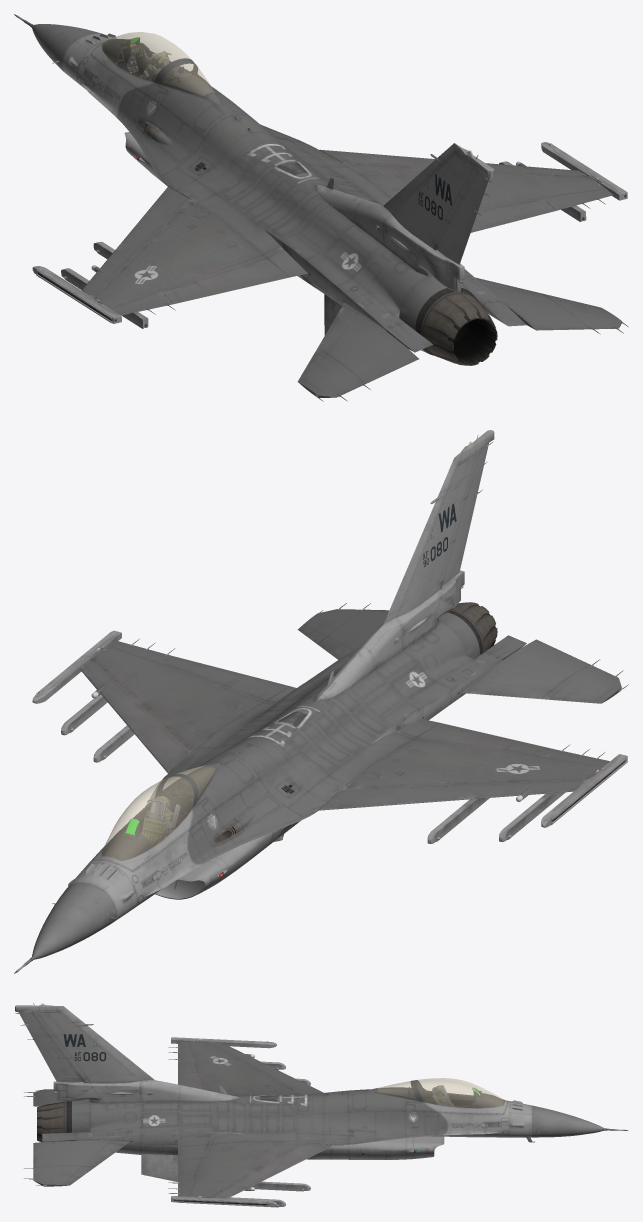
The model's file is f16-rebuilt.glb.
The picture shows the model from 3 angles, top to bottom: view 1: azimuth 30°, elevation 25°; view 2: azimuth 150°, elevation 25°; view 3: azimuth 270°, elevation 25°; orthographic projection. The views are drawn at different scales.
Parts seen in each view (by area): view 1: F-16-airframe_0, F-16-canopy_1, F-16-cockpit_2, F-16-rails_8; view 2: F-16-airframe_0, F-16-canopy_1, F-16-cockpit_2, F-16-rails_8; view 3: F-16-airframe_0, F-16-canopy_1, F-16-cockpit_2, F-16-rails_8.
Part boxes in pixels (x1,y1,x2,y2): F-16-airframe_0: (14, 14, 628, 401); F-16-canopy_1: (102, 32, 214, 95); F-16-cockpit_2: (102, 37, 214, 95); F-16-rails_8: (61, 161, 586, 328); F-16-airframe_0: (14, 430, 628, 973); F-16-canopy_1: (102, 765, 215, 860); F-16-cockpit_2: (102, 765, 215, 860); F-16-rails_8: (61, 694, 565, 843); F-16-airframe_0: (15, 1003, 628, 1207); F-16-canopy_1: (377, 1078, 504, 1107); F-16-cockpit_2: (377, 1080, 504, 1108); F-16-rails_8: (180, 1061, 310, 1207).
Size of the model in its own units: 93.94 by 45.91 by 151.
Materials: 3 (1 with a texture image).
